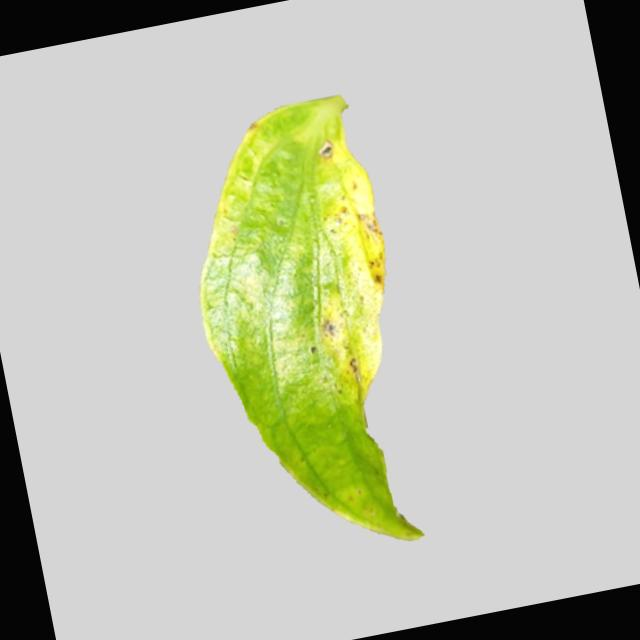yellow-mottle-virus: (118, 86, 447, 584)
